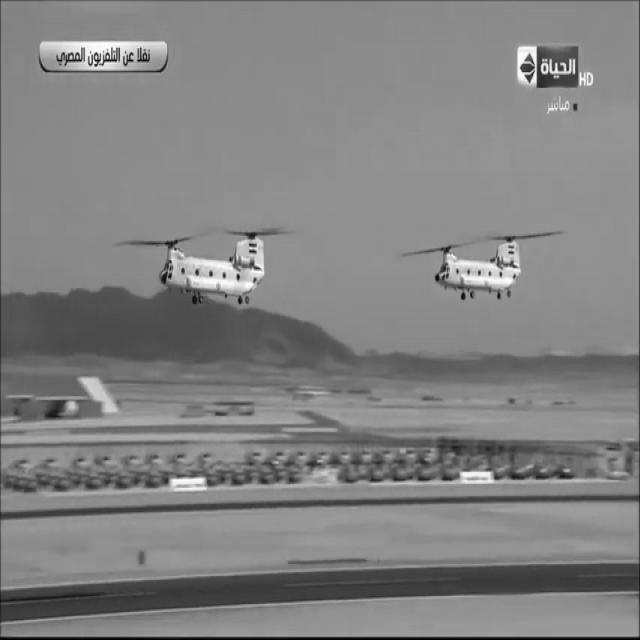helikopter: (142, 200, 304, 327), (404, 215, 550, 332)
